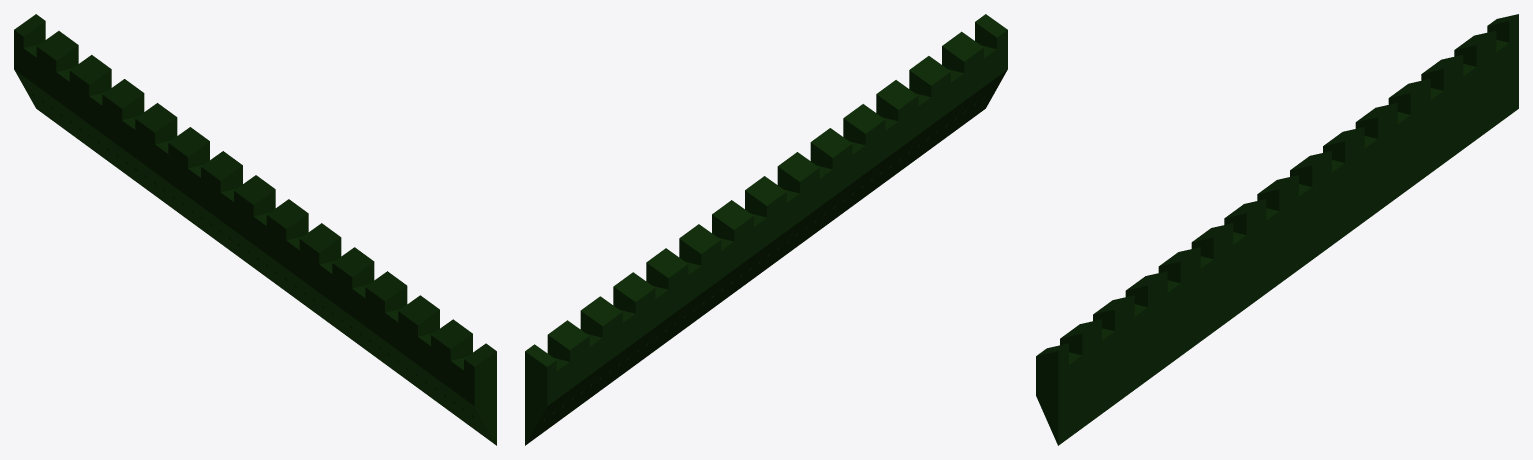
The model's file is wall-top-9.fbx.
The picture shows the model from 3 angles, left to right: view 1: azimuth 30°, elevation 25°; view 2: azimuth 150°, elevation 25°; view 3: azimuth 330°, elevation 25°; orthographic projection.
Parts seen in each view (by area): view 1: wall-top-9; view 2: wall-top-9; view 3: wall-top-9.
Boxes of the visible parts, left/top/right/bottom form: wall-top-9: left=14, top=14, right=496, bottom=445; wall-top-9: left=525, top=14, right=1007, bottom=445; wall-top-9: left=1036, top=14, right=1518, bottom=445.
Bounding box in the file's own units: 0.4131 × 1.69 × 14.87.
